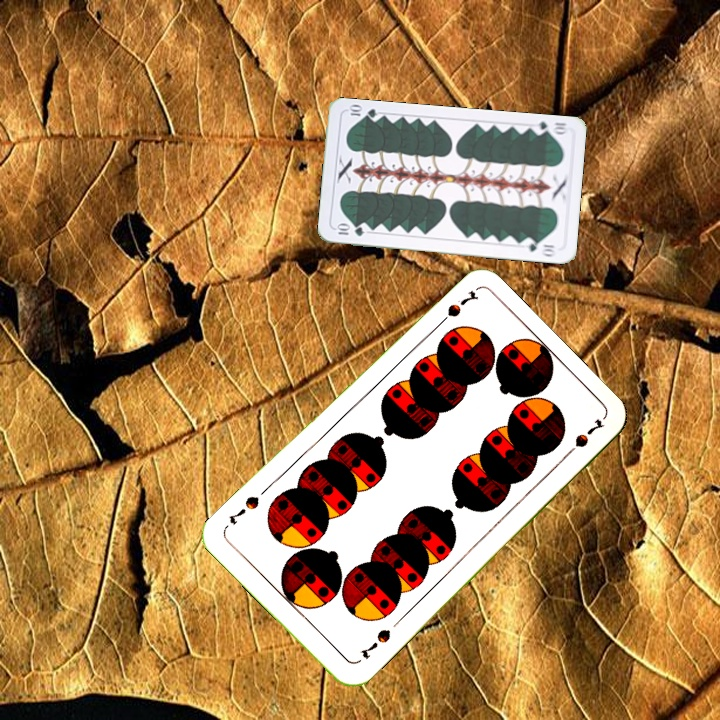G10: (529, 117, 570, 138), (332, 221, 367, 239)
S7: (431, 286, 481, 332), (356, 624, 394, 662)
